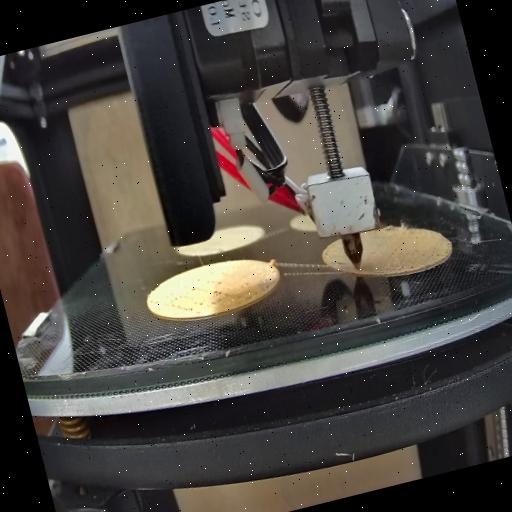under_extrusion: (150, 270, 228, 321), (378, 239, 455, 282), (236, 276, 272, 303), (324, 254, 348, 275)
